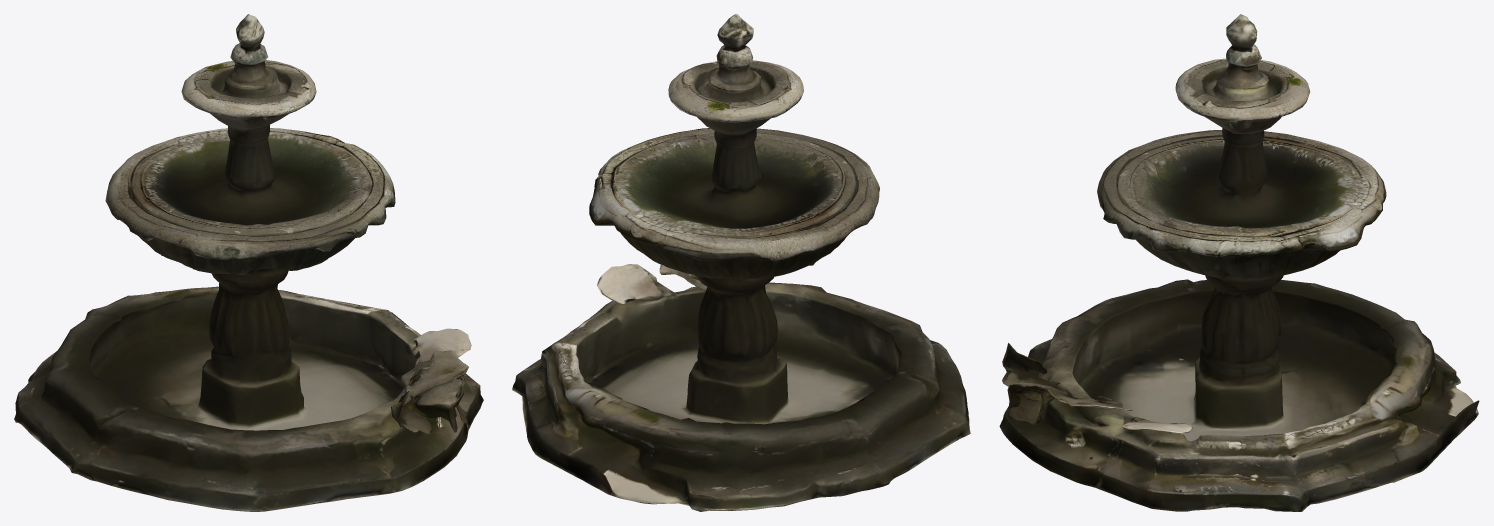
Rendered from font.fbx.
The picture shows the model from 3 angles, left to right: view 1: azimuth 30°, elevation 25°; view 2: azimuth 150°, elevation 25°; view 3: azimuth 270°, elevation 25°; orthographic projection.
Parts seen in each view (by area): view 1: tripo_node_7228fd7c; view 2: tripo_node_7228fd7c; view 3: tripo_node_7228fd7c.
Boxes of the visible parts, x1,y1,x2,y2 form: tripo_node_7228fd7c: (14,14,483,511); tripo_node_7228fd7c: (512,14,970,511); tripo_node_7228fd7c: (999,14,1479,511).
Size of the model in its own units: 0.9725 by 0.9285 by 1.
Materials: 1 (1 with a texture image).
